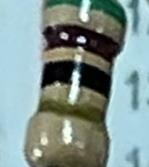Black: (41, 58, 112, 100), (43, 27, 123, 62)
Green: (43, 0, 126, 29)
Side-Gold: (32, 98, 104, 128)
